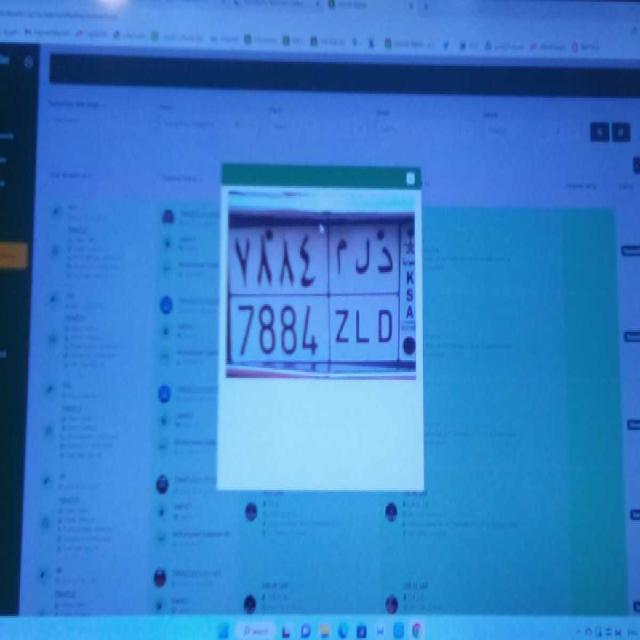license_plate: (227, 290, 398, 371)
